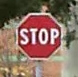stop: (15, 11, 62, 59)
